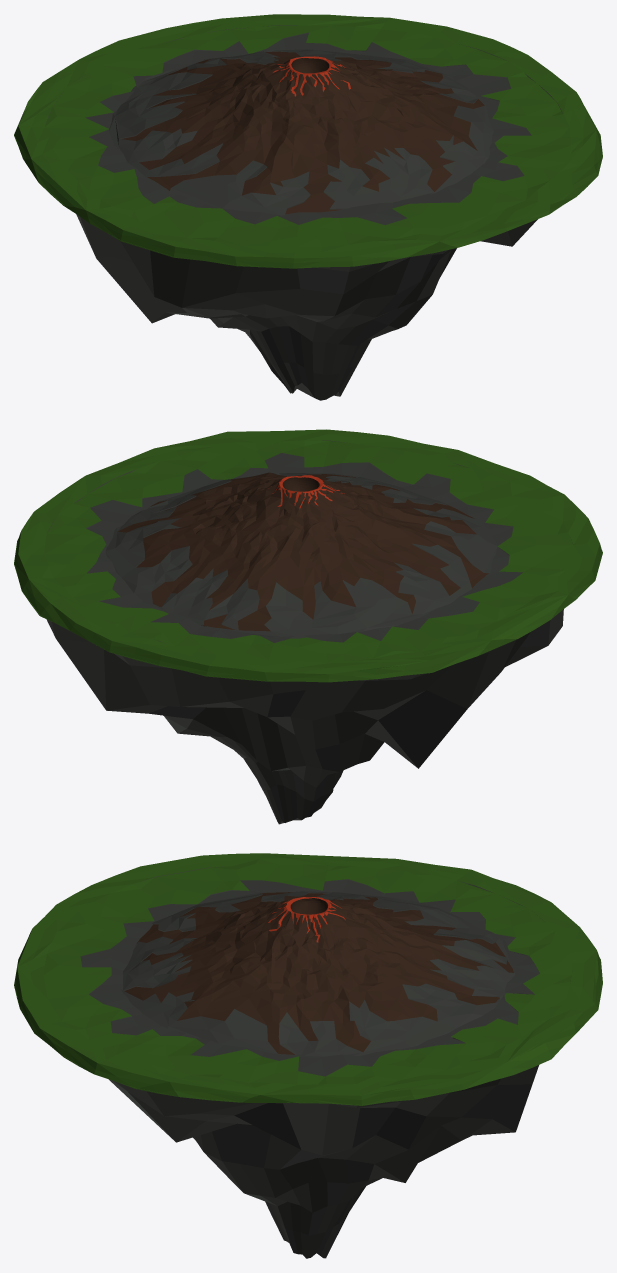
The model's file is Gora_merge.fbx.
3 views of the same model, one above another, from view 1: azimuth 30°, elevation 25°; view 2: azimuth 150°, elevation 25°; view 3: azimuth 270°, elevation 25° (orthographic). The views are drawn at different scales.
Parts seen in each view (by area): view 1: Landscape.006; view 2: Landscape.006; view 3: Landscape.006.
Part boxes in pixels (left/top/right/bottom): Landscape.006: left=14, top=14, right=602, bottom=400; Landscape.006: left=14, top=429, right=602, bottom=824; Landscape.006: left=14, top=853, right=602, bottom=1258.
Bounding box in the file's own units: 475 × 313 × 482.
